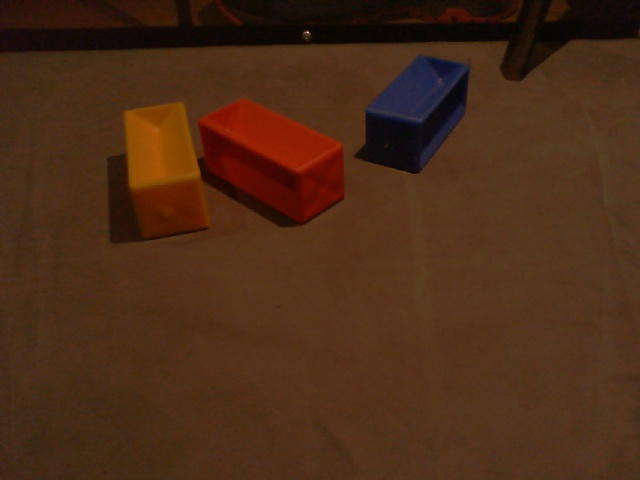BlueSample: (361, 53, 471, 174)
RedSample: (198, 96, 347, 225)
YellowSample: (119, 98, 212, 239)
